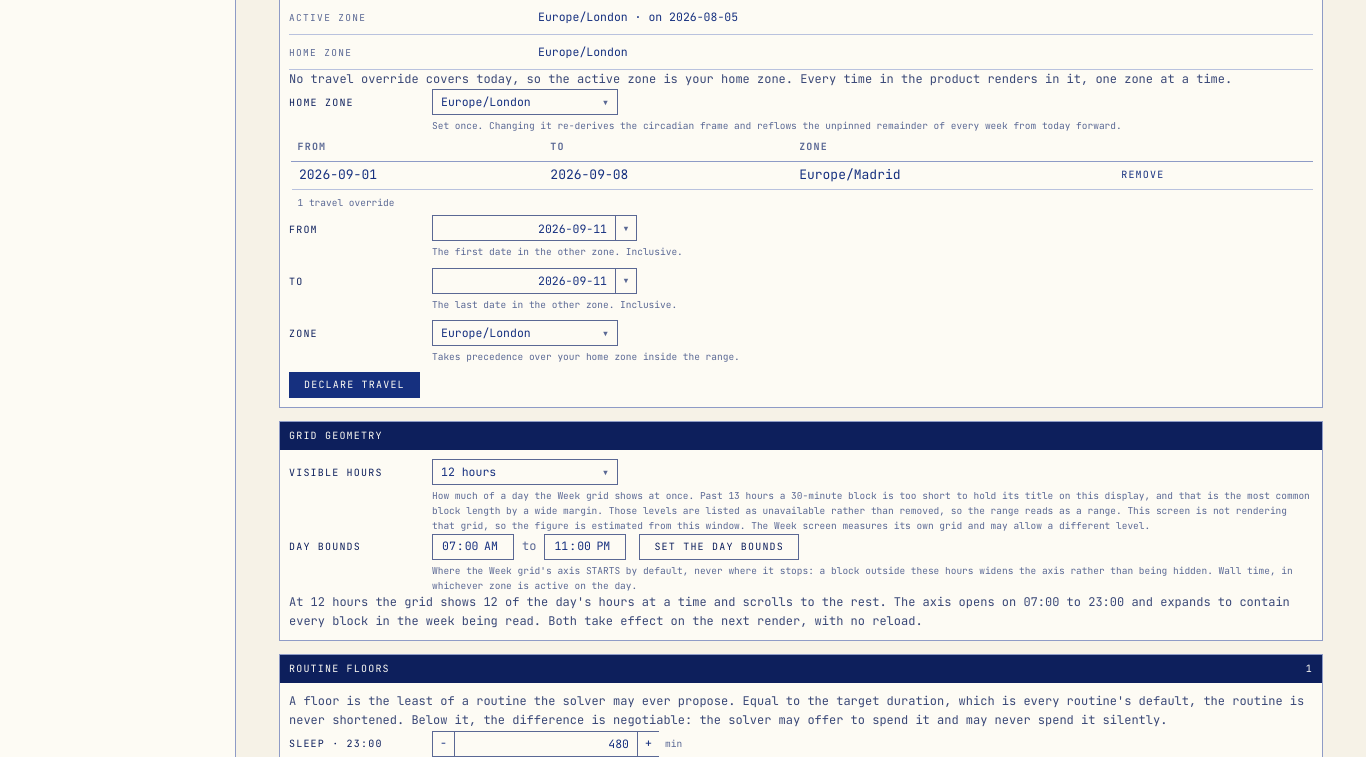
the zone and travel panel › renders the boundary rejection of an overlapping declaration with its stated reason
The image size is (1366, 757).
(page scrolled)
Click the button "Declare travel" at [354, 385], box [289,372,420,398]
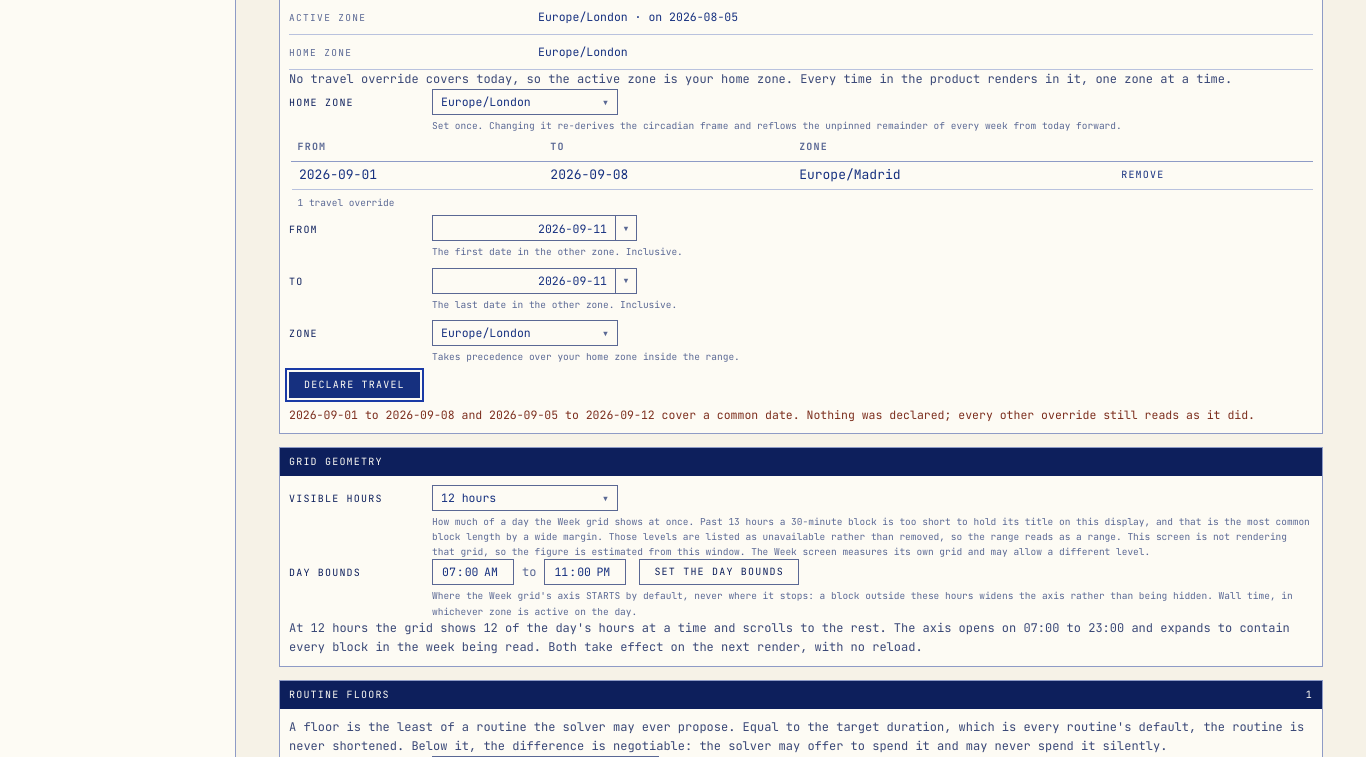
Check: the text "cover a common date" is shown, box [289,407,1255,422]
